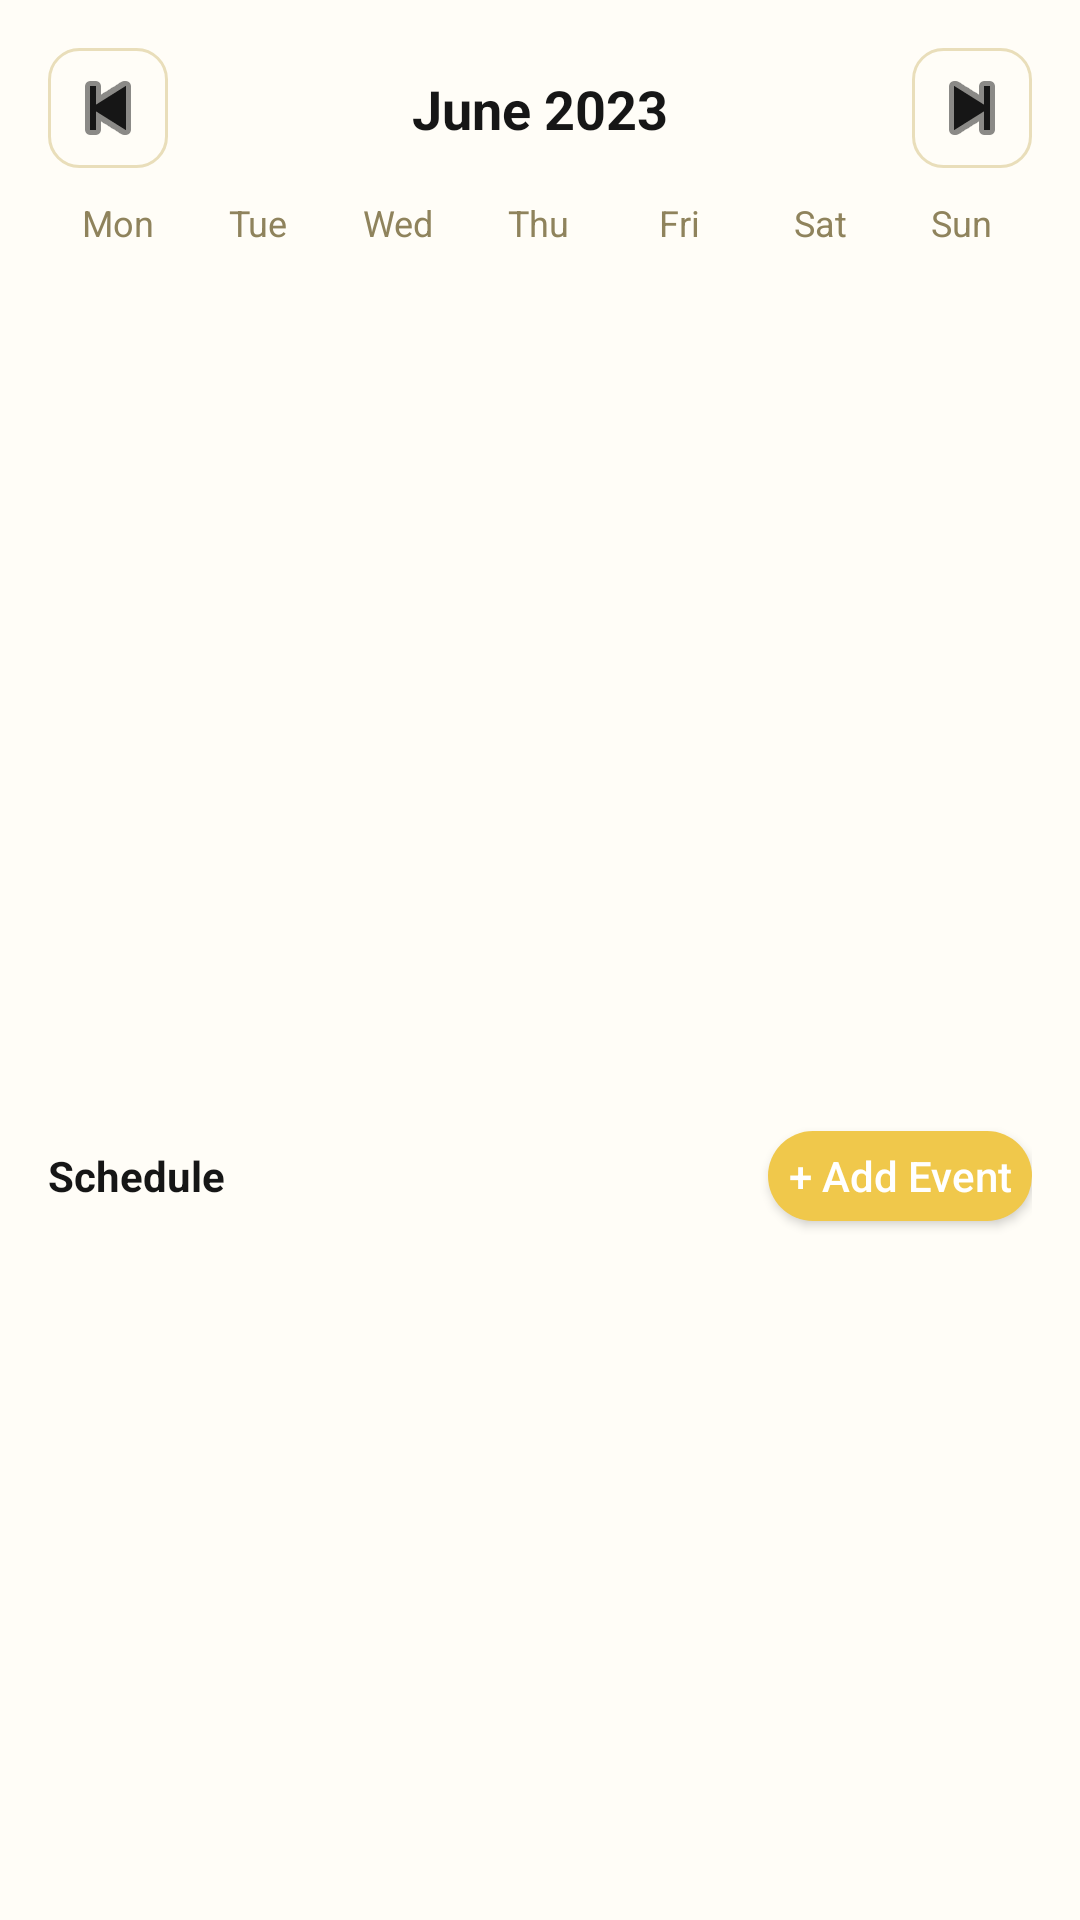

Icons on this 1080w x 1920h Android screen, each with its box as bbox(x1, y1, x2, y2):
next: bbox(912, 48, 1032, 168)
prev: bbox(48, 48, 168, 168)
